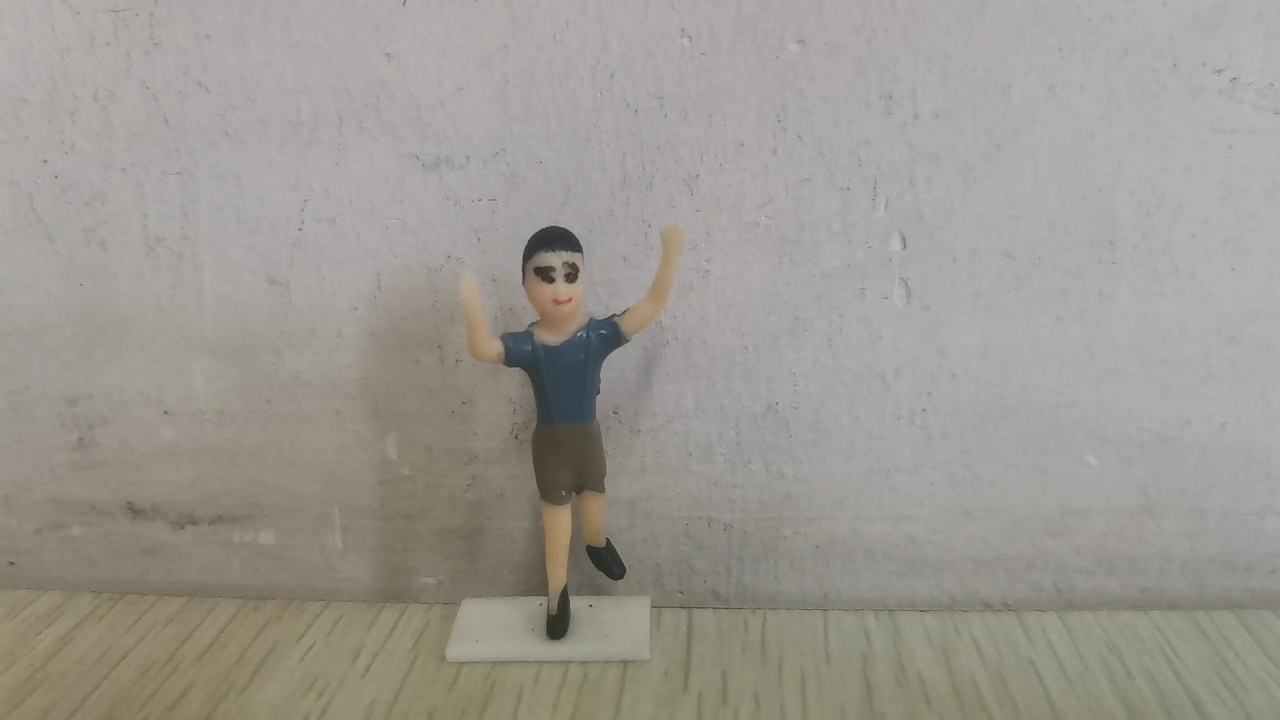person: (454, 224, 690, 644)
